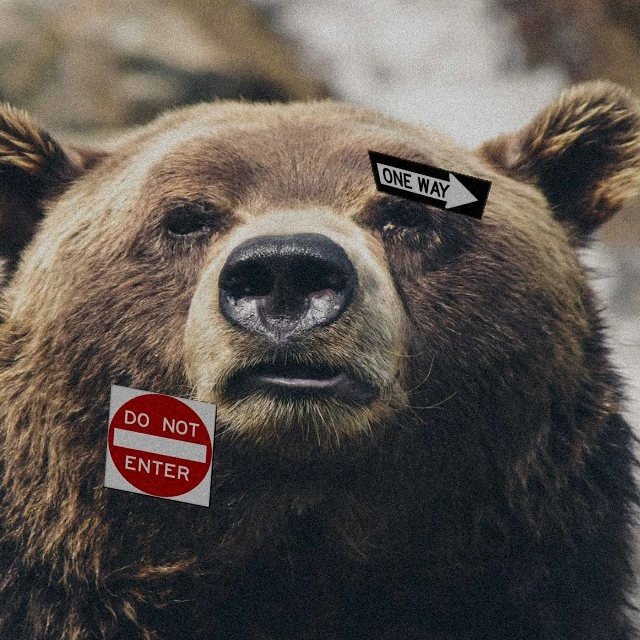DO_NOT_ENTER: (103, 383, 217, 508)
ONE_WAY_ right: (367, 149, 492, 220)
